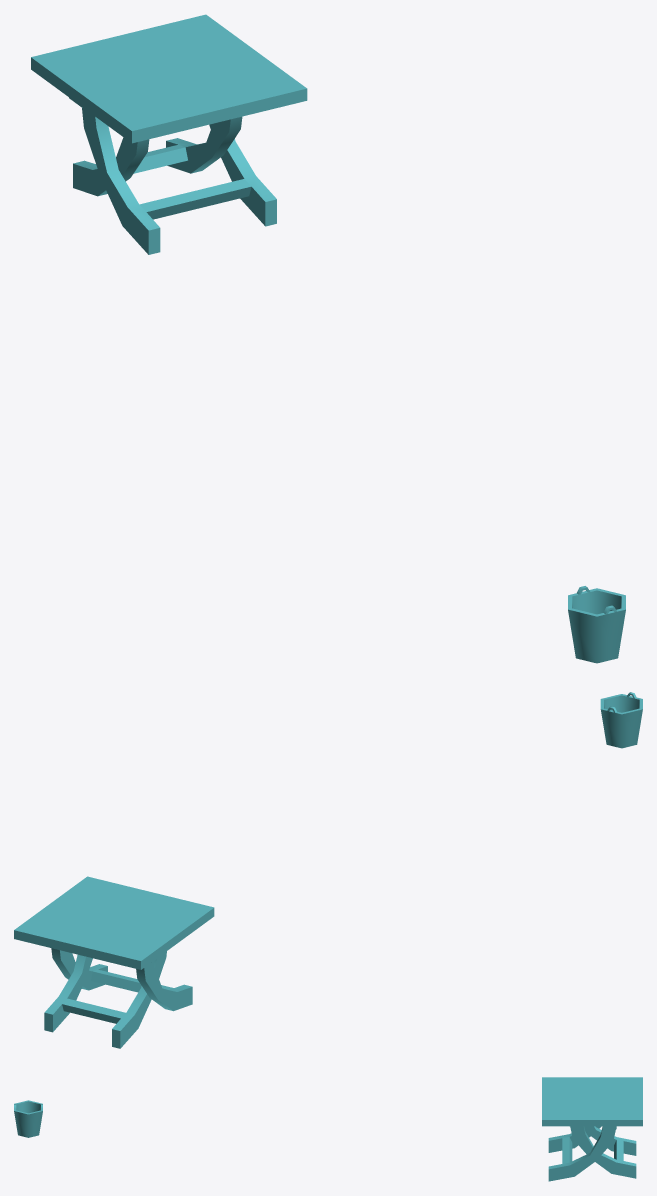
File: BeachProps.fbx
3 renders of one model, top to bottom at view 1: azimuth 30°, elevation 25°; view 2: azimuth 150°, elevation 25°; view 3: azimuth 270°, elevation 25°, orthographic. The views are drawn at different scales.
Parts seen in each view (by area): view 1: TableTop, TableLegs, Bucket; view 2: TableTop, TableLegs, Bucket; view 3: TableTop, TableLegs, Bucket.
Part boxes in pixels (x1=…): TableTop: x1=31, y1=14, x2=307, y2=143; TableLegs: x1=69, y1=97, x2=276, y2=254; Bucket: x1=568, y1=588, x2=625, y2=663; TableTop: x1=14, y1=876, x2=214, y2=969; TableLegs: x1=44, y1=948, x2=192, y2=1048; Bucket: x1=600, y1=694, x2=642, y2=748; TableTop: x1=542, y1=1077, x2=642, y2=1126; TableLegs: x1=548, y1=1126, x2=636, y2=1181; Bucket: x1=14, y1=1100, x2=42, y2=1137.
Bounding box in the file's own units: 130 × 66.17 × 561.
